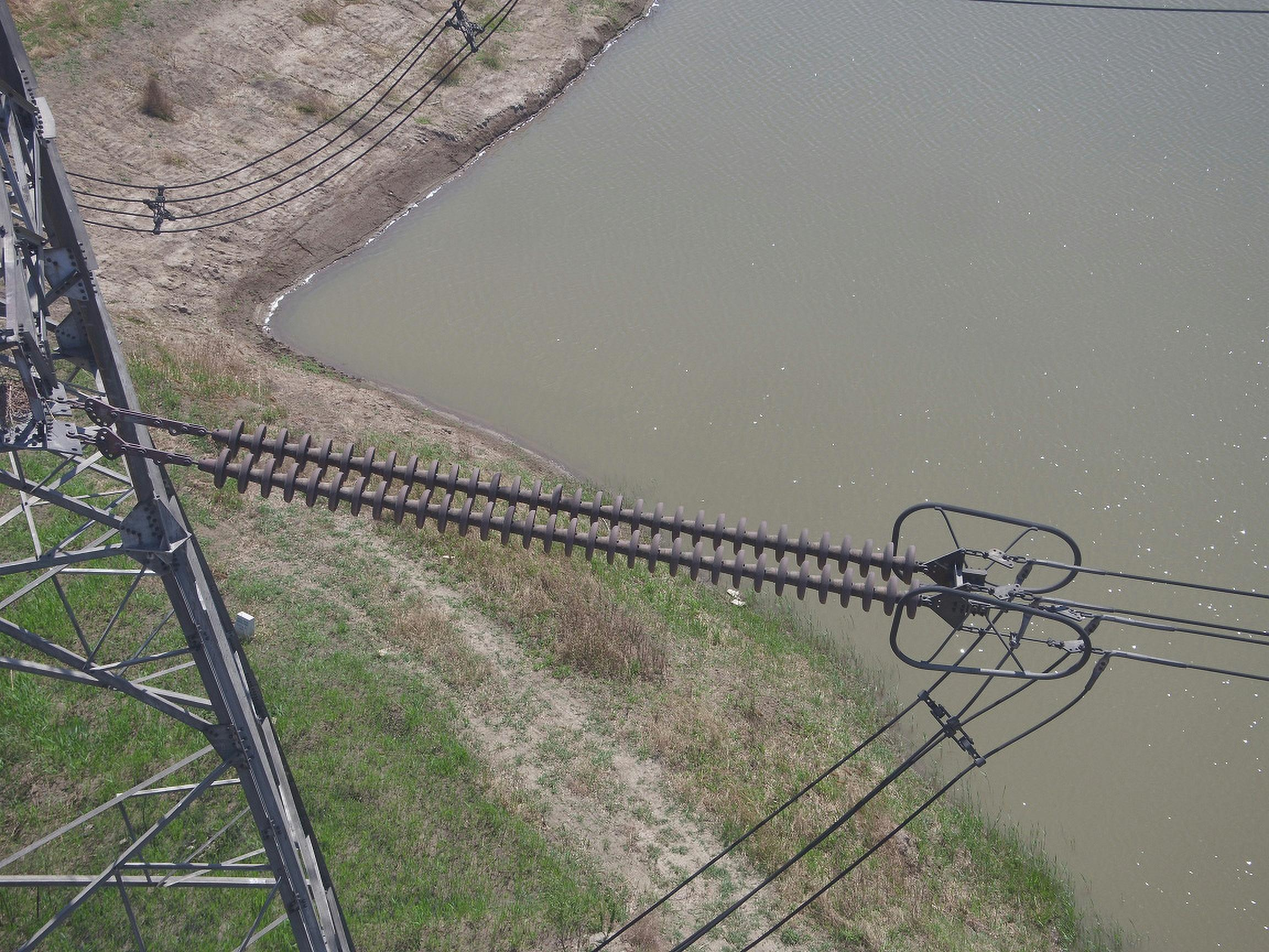insulator: (203, 414, 927, 626)
